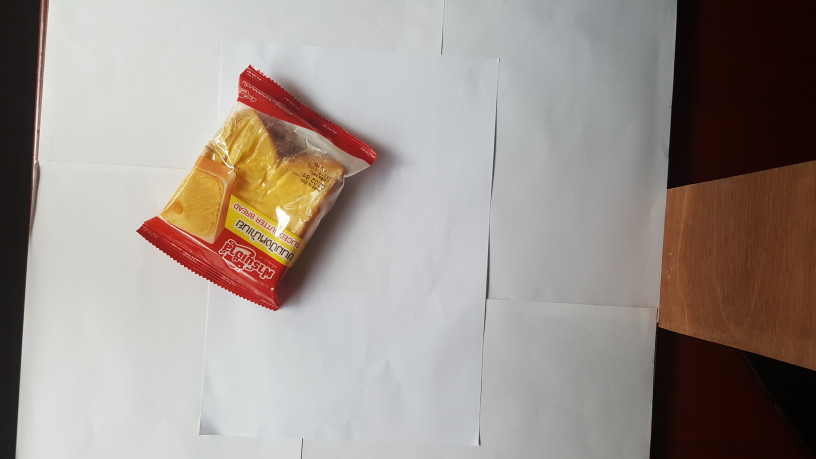farmhouse-bread-butter: (131, 58, 385, 311)
